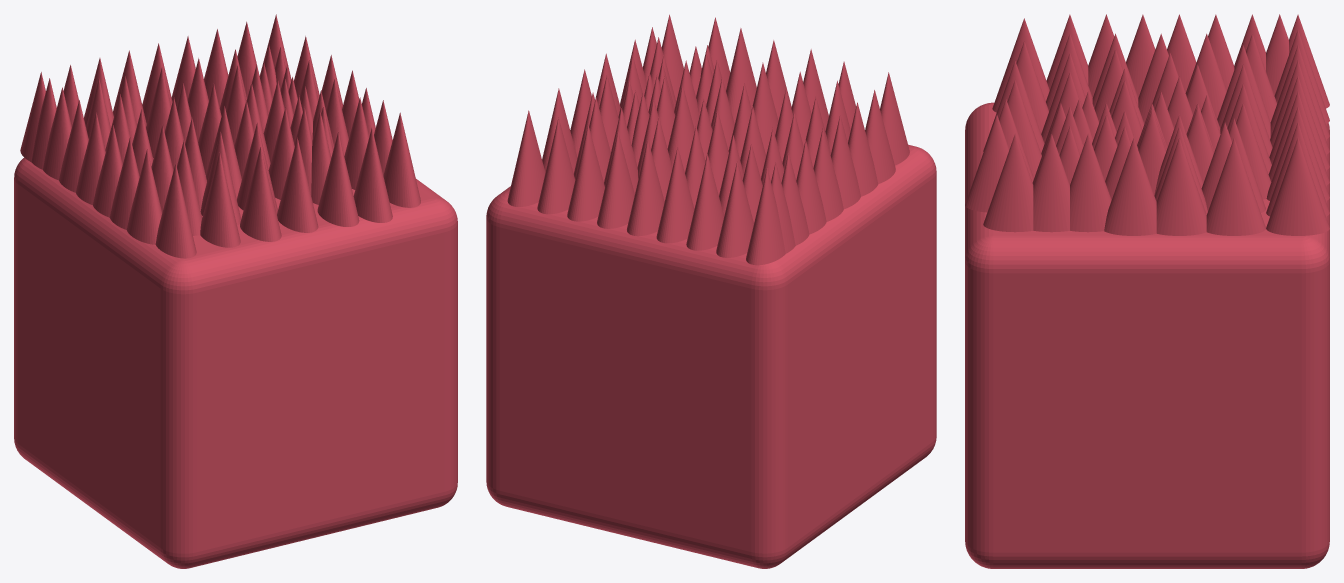
File: Smashing Gogo-Jarv.glb
The picture shows the model from 3 angles, left to right: view 1: azimuth 30°, elevation 25°; view 2: azimuth 150°, elevation 25°; view 3: azimuth 270°, elevation 25°; orthographic projection. The views are drawn at different scales.
Visible parts, largest first — view 1: Mesh_Mesh_head_geo.001_lambert2SG.001; view 2: Mesh_Mesh_head_geo.001_lambert2SG.001; view 3: Mesh_Mesh_head_geo.001_lambert2SG.001.
Part boxes in pixels (x1,y1,x2,y2): Mesh_Mesh_head_geo.001_lambert2SG.001: (14,14,457,568); Mesh_Mesh_head_geo.001_lambert2SG.001: (486,14,936,568); Mesh_Mesh_head_geo.001_lambert2SG.001: (965,14,1329,568).
Bounding box in the file's own units: 0.04 × 0.051 × 0.04.
